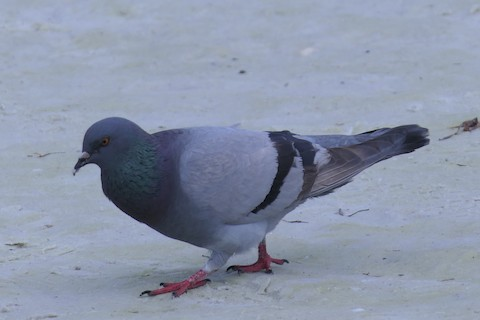pigeon: (74, 109, 443, 299)
